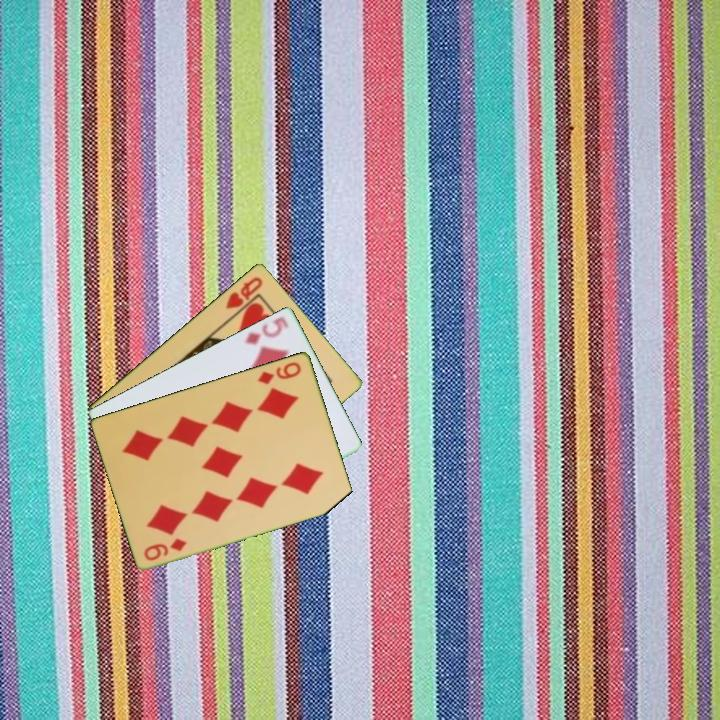5d: (242, 312, 291, 348)
9d: (254, 358, 304, 387), (140, 534, 190, 563)
Qh: (222, 273, 265, 312)
